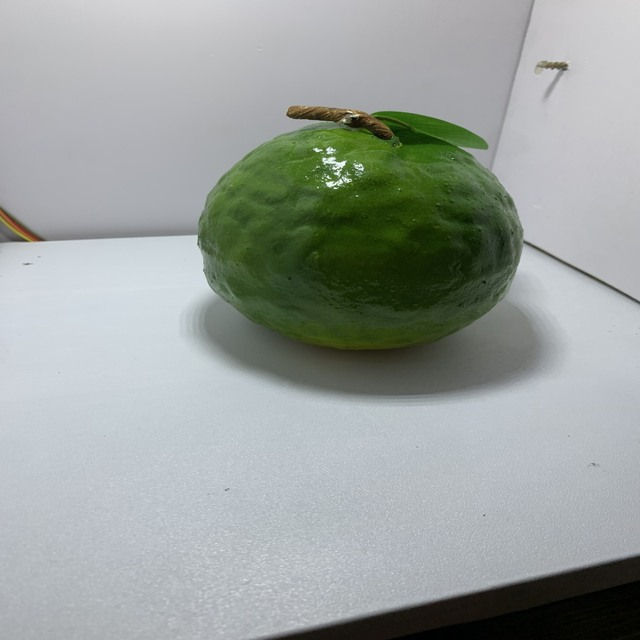Cam xanh: (184, 97, 536, 365)
